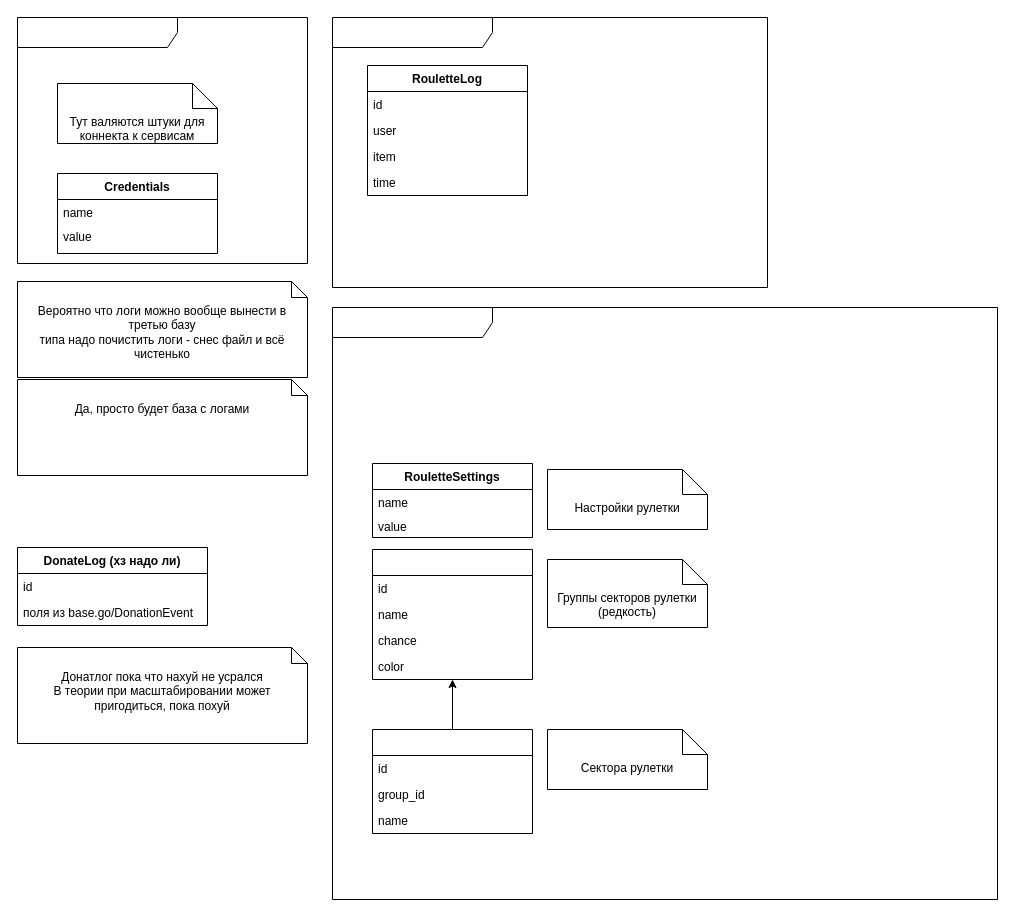
The diagram is 1015 pixels wide and 917 high, and some of its shapes have lost their labels. Each missing label, with the box of its shape:
credentials.db: (16, 16, 308, 264)
rLog.db: (332, 16, 768, 288)
RouletteSectorGroup: (372, 548, 532, 680)
RouletteSectorItem: (372, 728, 532, 834)
widgets.db: (332, 306, 998, 900)
